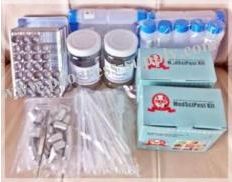Insecticide: (102, 28, 138, 89), (68, 26, 101, 90)
